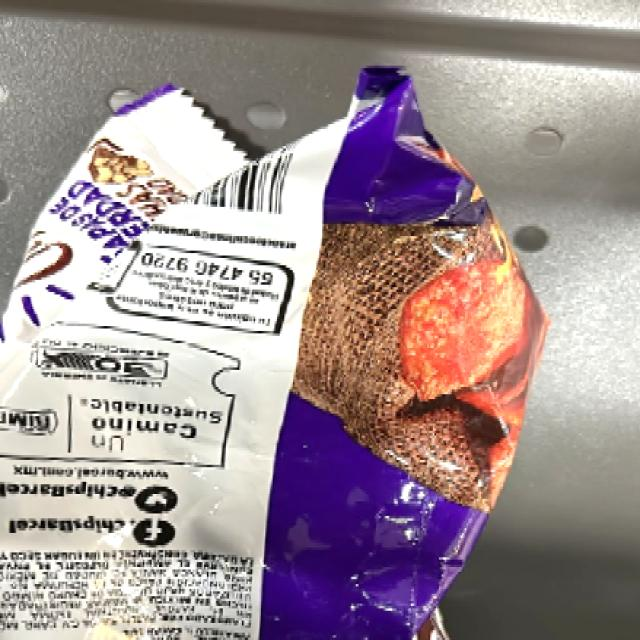chipsFuego: (326, 77, 527, 630)
productoAtras: (28, 130, 305, 633)
